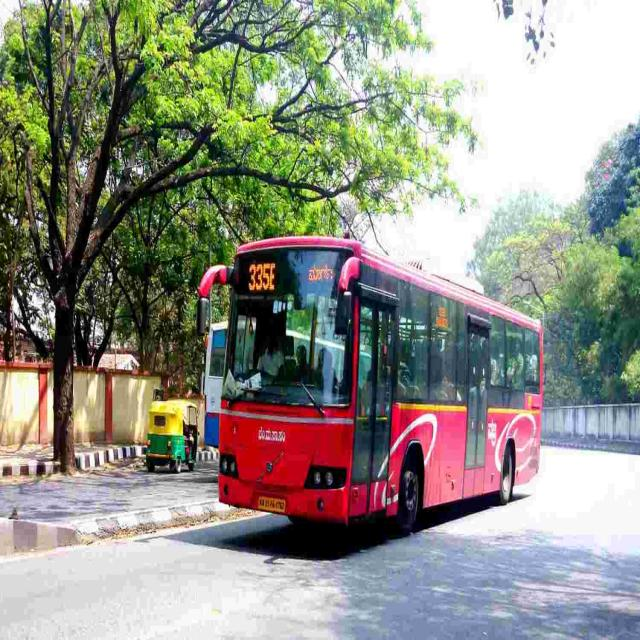bus: (205, 229, 542, 544)
